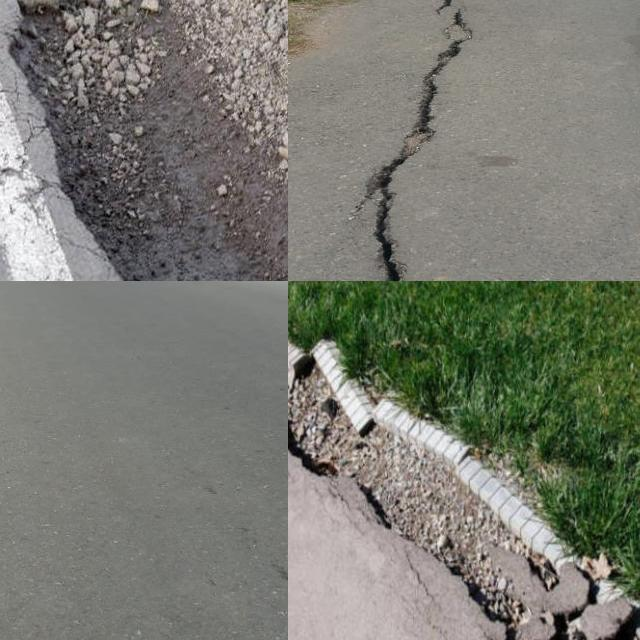Memanjang: (353, 0, 480, 281)
Pinggir: (288, 325, 640, 640), (0, 0, 288, 281)
